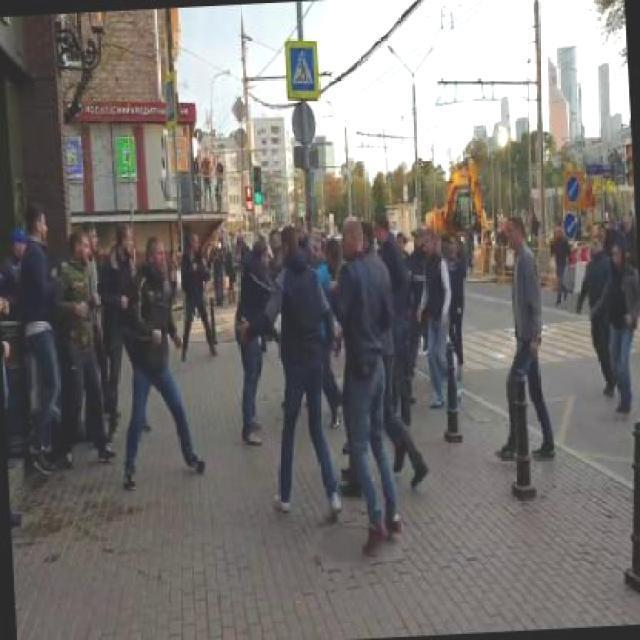non-fight: (322, 210, 408, 555)
